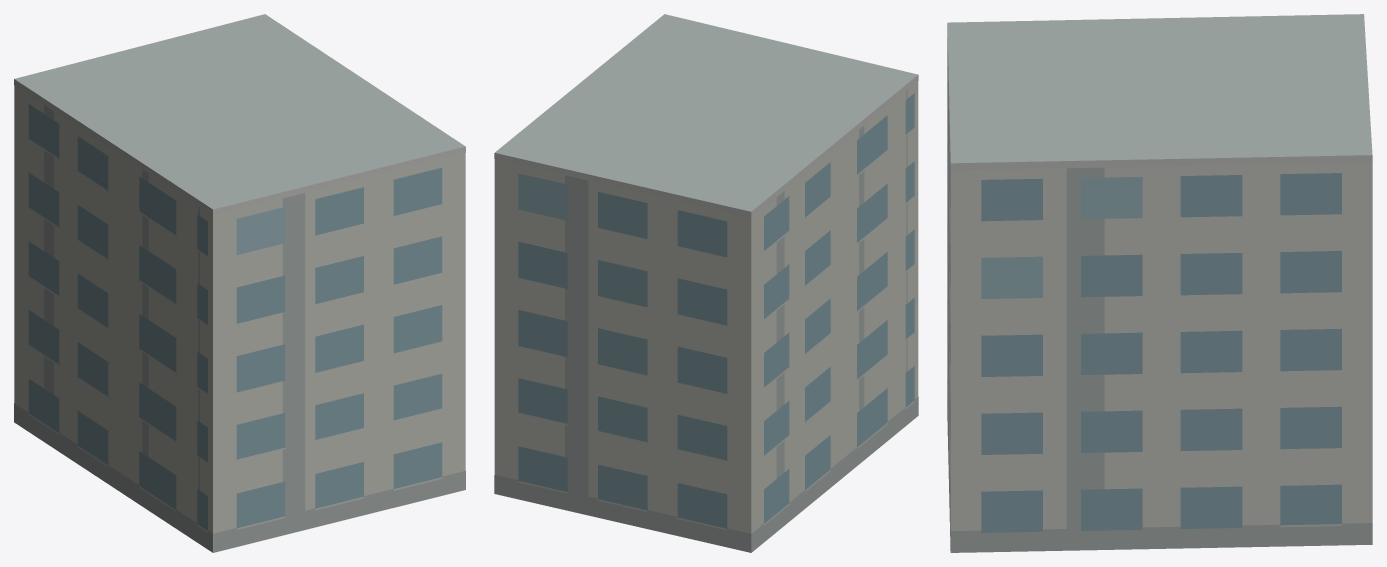
The model's file is survey-upis-32644003.glb.
3 renders of one model, left to right at view 1: azimuth 30°, elevation 25°; view 2: azimuth 150°, elevation 25°; view 3: azimuth 270°, elevation 25°, orthographic. The views are drawn at different scales.
Visible parts, largest first — view 1: survey-upis-32644003.tmp; view 2: survey-upis-32644003.tmp; view 3: survey-upis-32644003.tmp.
Part boxes in pixels (x1=…): survey-upis-32644003.tmp: x1=14, y1=14, x2=465, y2=552; survey-upis-32644003.tmp: x1=494, y1=14, x2=918, y2=552; survey-upis-32644003.tmp: x1=947, y1=14, x2=1372, y2=552.
Bounding box in the file's own units: 10.77 × 13.1 × 12.96.
